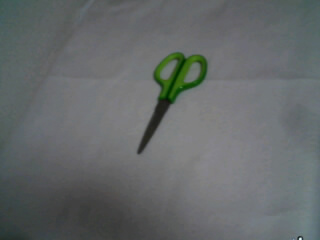003_classes: (123, 48, 206, 160)
